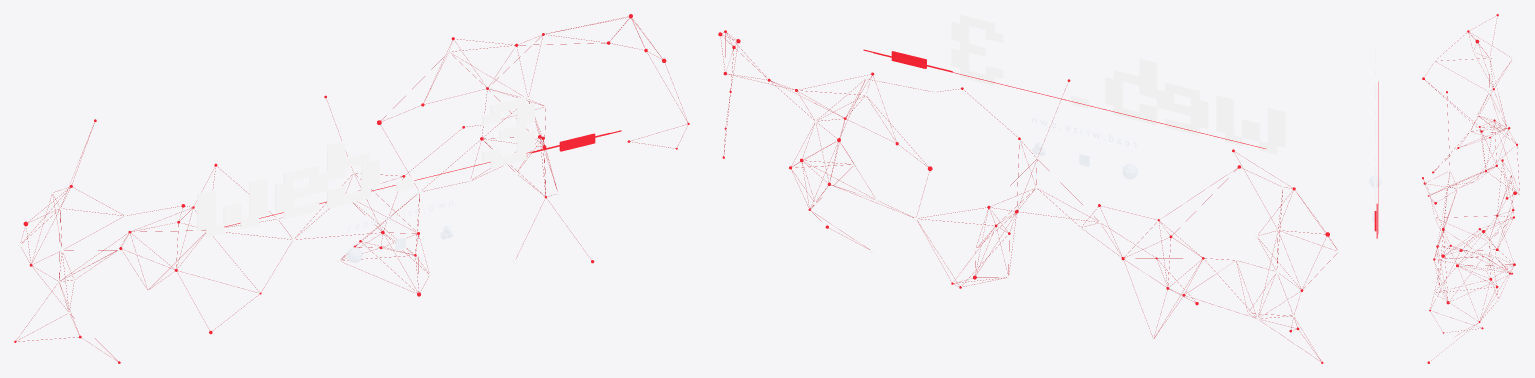
The model's file is FOOTER.glb.
3 renders of one model, left to right at view 1: azimuth 30°, elevation 25°; view 2: azimuth 150°, elevation 25°; view 3: azimuth 270°, elevation 25°, orthographic. The views are drawn at different scales.
Parts seen in each view (by area): view 1: no part large enough to name; view 2: no part large enough to name; view 3: Cylinder.
Boxes of the visible parts, x1,y1,x2,y2 form: Cylinder: (1378,82,1378,233).
Size of what is drawn, in the model's own units: 10.07 by 3.37 by 2.6.
